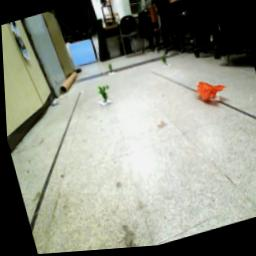herb: (96, 84, 114, 105), (161, 57, 169, 69), (107, 66, 114, 75)
wild: (193, 78, 229, 107)
